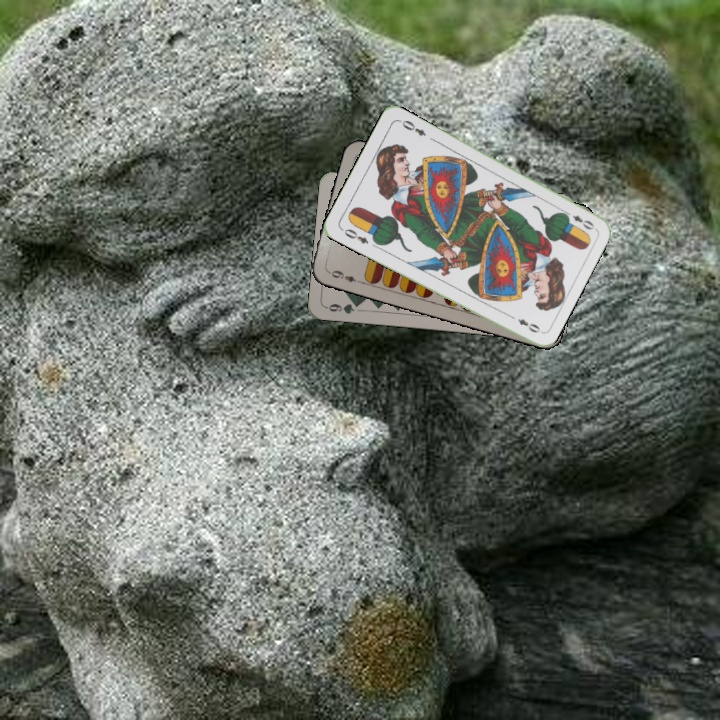E9: (324, 266, 364, 286)
EO: (559, 207, 597, 232), (337, 224, 371, 246)
G9: (322, 298, 363, 316)
